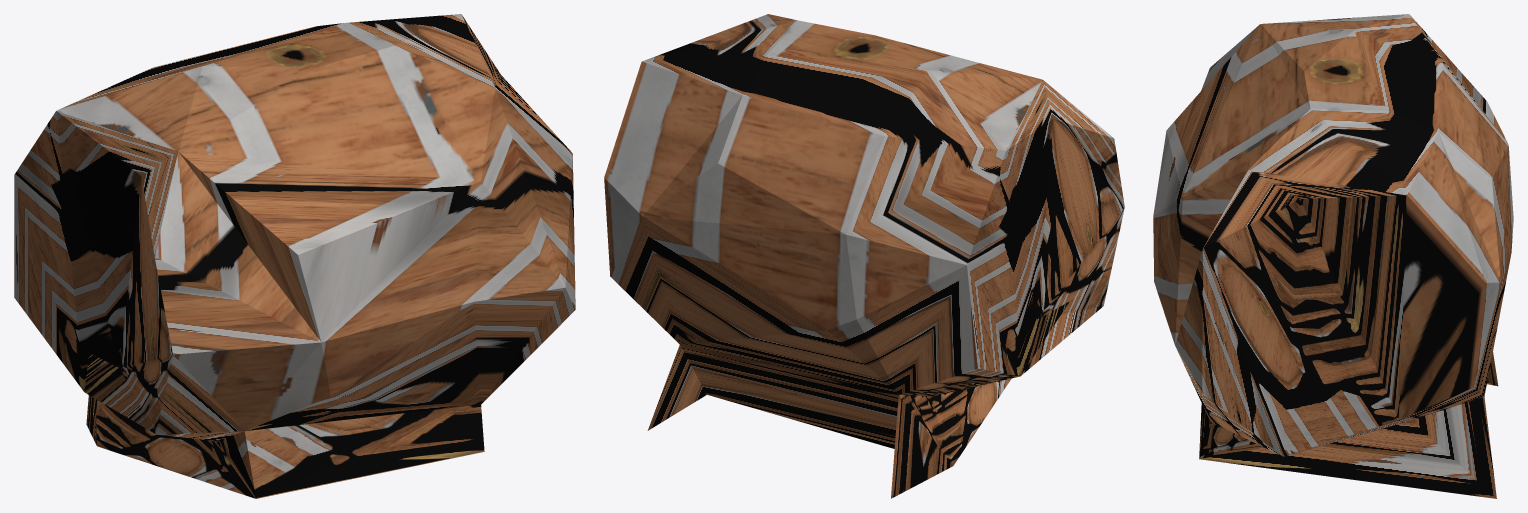
Rendered from keg_lod2.glb.
3 views of the same model, side by side, from view 1: azimuth 30°, elevation 25°; view 2: azimuth 150°, elevation 25°; view 3: azimuth 270°, elevation 25° (orthographic). The views are drawn at different scales.
Parts seen in each view (by area): view 1: geometry_0; view 2: geometry_0; view 3: geometry_0.
Part boxes in pixels (x1,y1,x2,y2): geometry_0: [14, 14, 575, 498]; geometry_0: [604, 14, 1124, 498]; geometry_0: [1153, 14, 1513, 498].
Size of the model in its own units: 0.6701 by 0.613 by 0.5376.
Materials: 1 (1 with a texture image).
